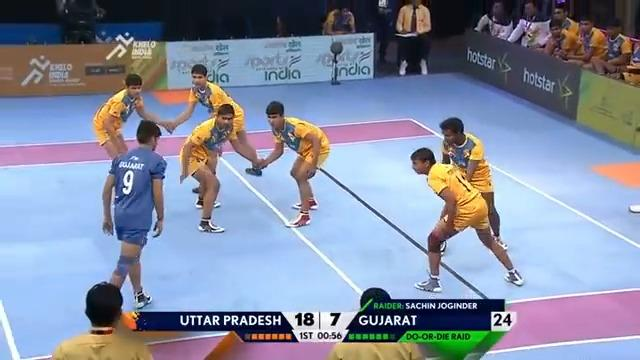Player: (409, 146, 524, 292), (161, 63, 264, 208), (245, 100, 330, 228), (437, 116, 508, 254), (49, 280, 154, 359), (178, 103, 235, 233), (325, 286, 426, 359), (92, 72, 173, 162)
Raider: (101, 119, 168, 309)
referee: (56, 0, 105, 44), (367, 0, 396, 65)
